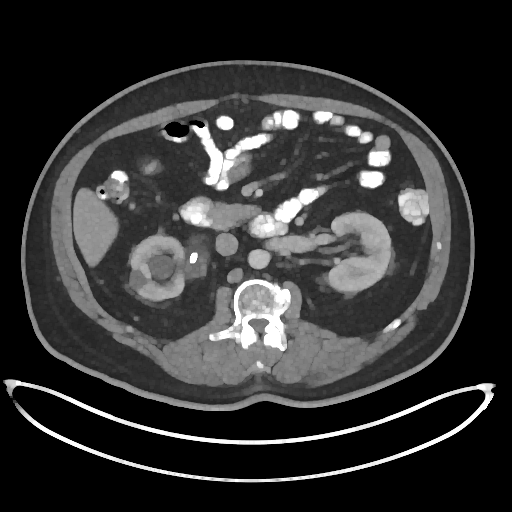Lesion: (129, 269, 149, 295)
